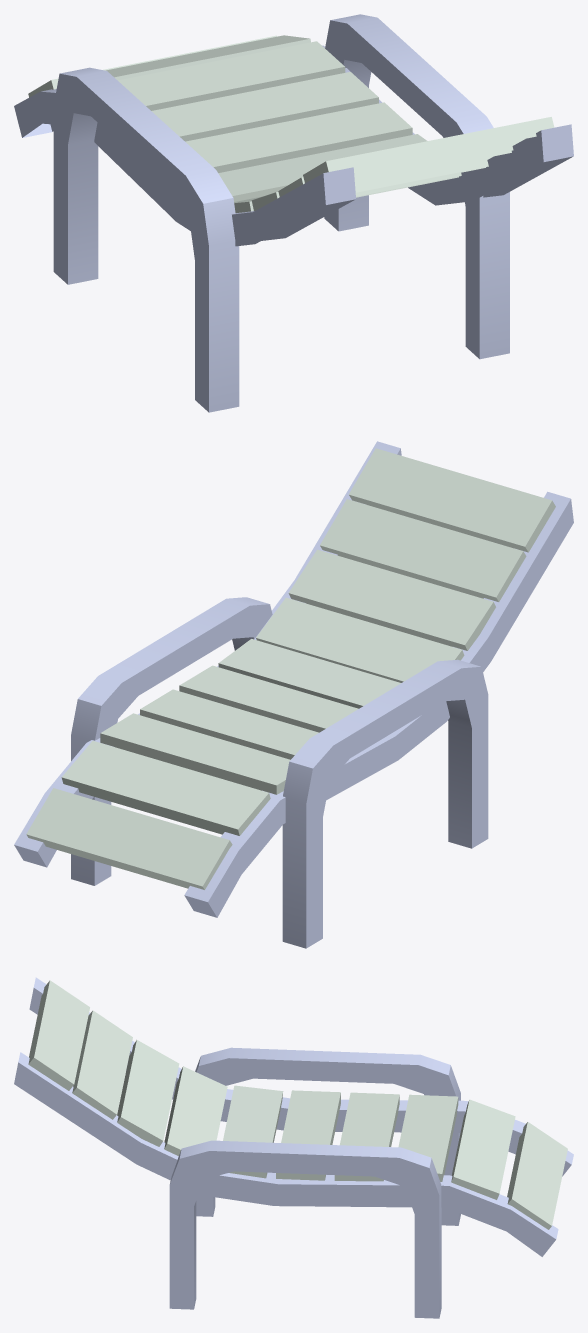
The model's file is Chaise_Longue.FBX.
The picture shows the model from 3 angles, top to bottom: view 1: azimuth 30°, elevation 25°; view 2: azimuth 150°, elevation 25°; view 3: azimuth 270°, elevation 25°; orthographic projection. The views are drawn at different scales.
Visible parts, largest first — view 1: Box002; view 2: Box002; view 3: Box002.
Part boxes in pixels (x1=…): Box002: x1=14, y1=14, x2=573, y2=412; Box002: x1=14, y1=441, x2=573, y2=948; Box002: x1=14, y1=977, x2=573, y2=1318.
Size of the model in its own units: 107 by 103 by 224.
